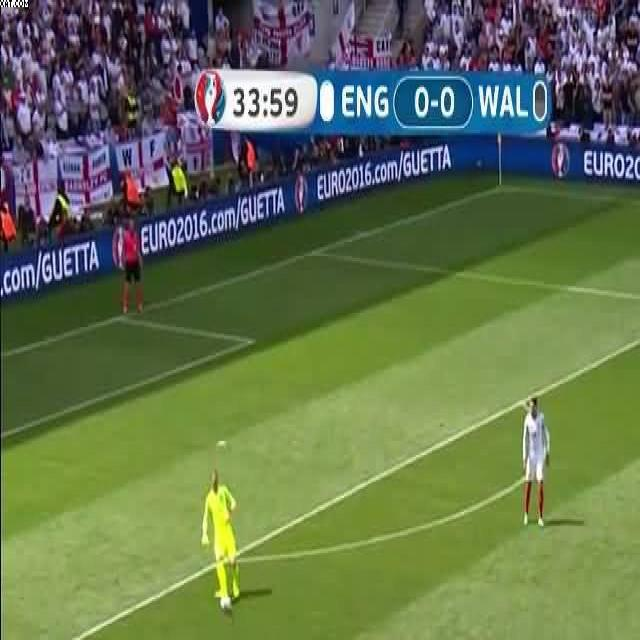ball: (220, 592, 232, 612)
player-white: (200, 468, 241, 600), (521, 397, 551, 529), (122, 217, 144, 313)
